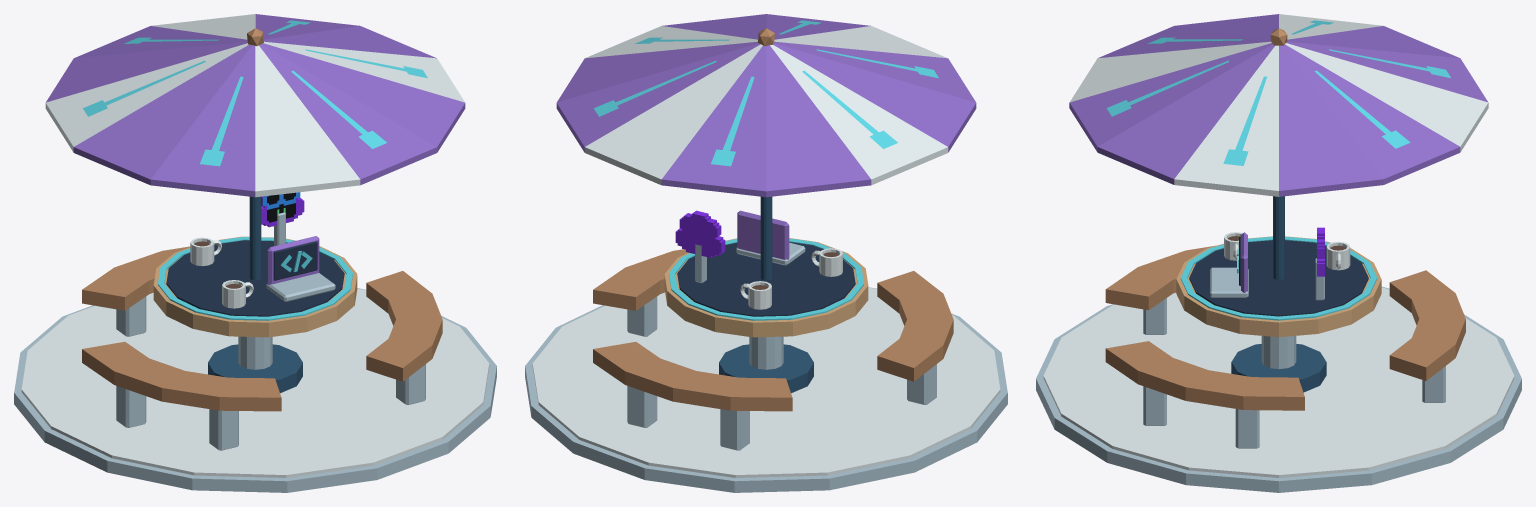
The picture shows the model from 3 angles, left to right: view 1: azimuth 30°, elevation 25°; view 2: azimuth 150°, elevation 25°; view 3: azimuth 270°, elevation 25°; orthographic projection.
Parts seen in each view (by area): view 1: campus_meeting_nook; view 2: campus_meeting_nook; view 3: campus_meeting_nook.
Part boxes in pixels (box(x1,y1,x2,y2)): campus_meeting_nook: box(14, 14, 496, 492); campus_meeting_nook: box(525, 14, 1007, 492); campus_meeting_nook: box(1036, 14, 1521, 492).
Bounding box in the file's own units: 4.5 × 3.7 × 4.5.
1 material, 1 textured.
